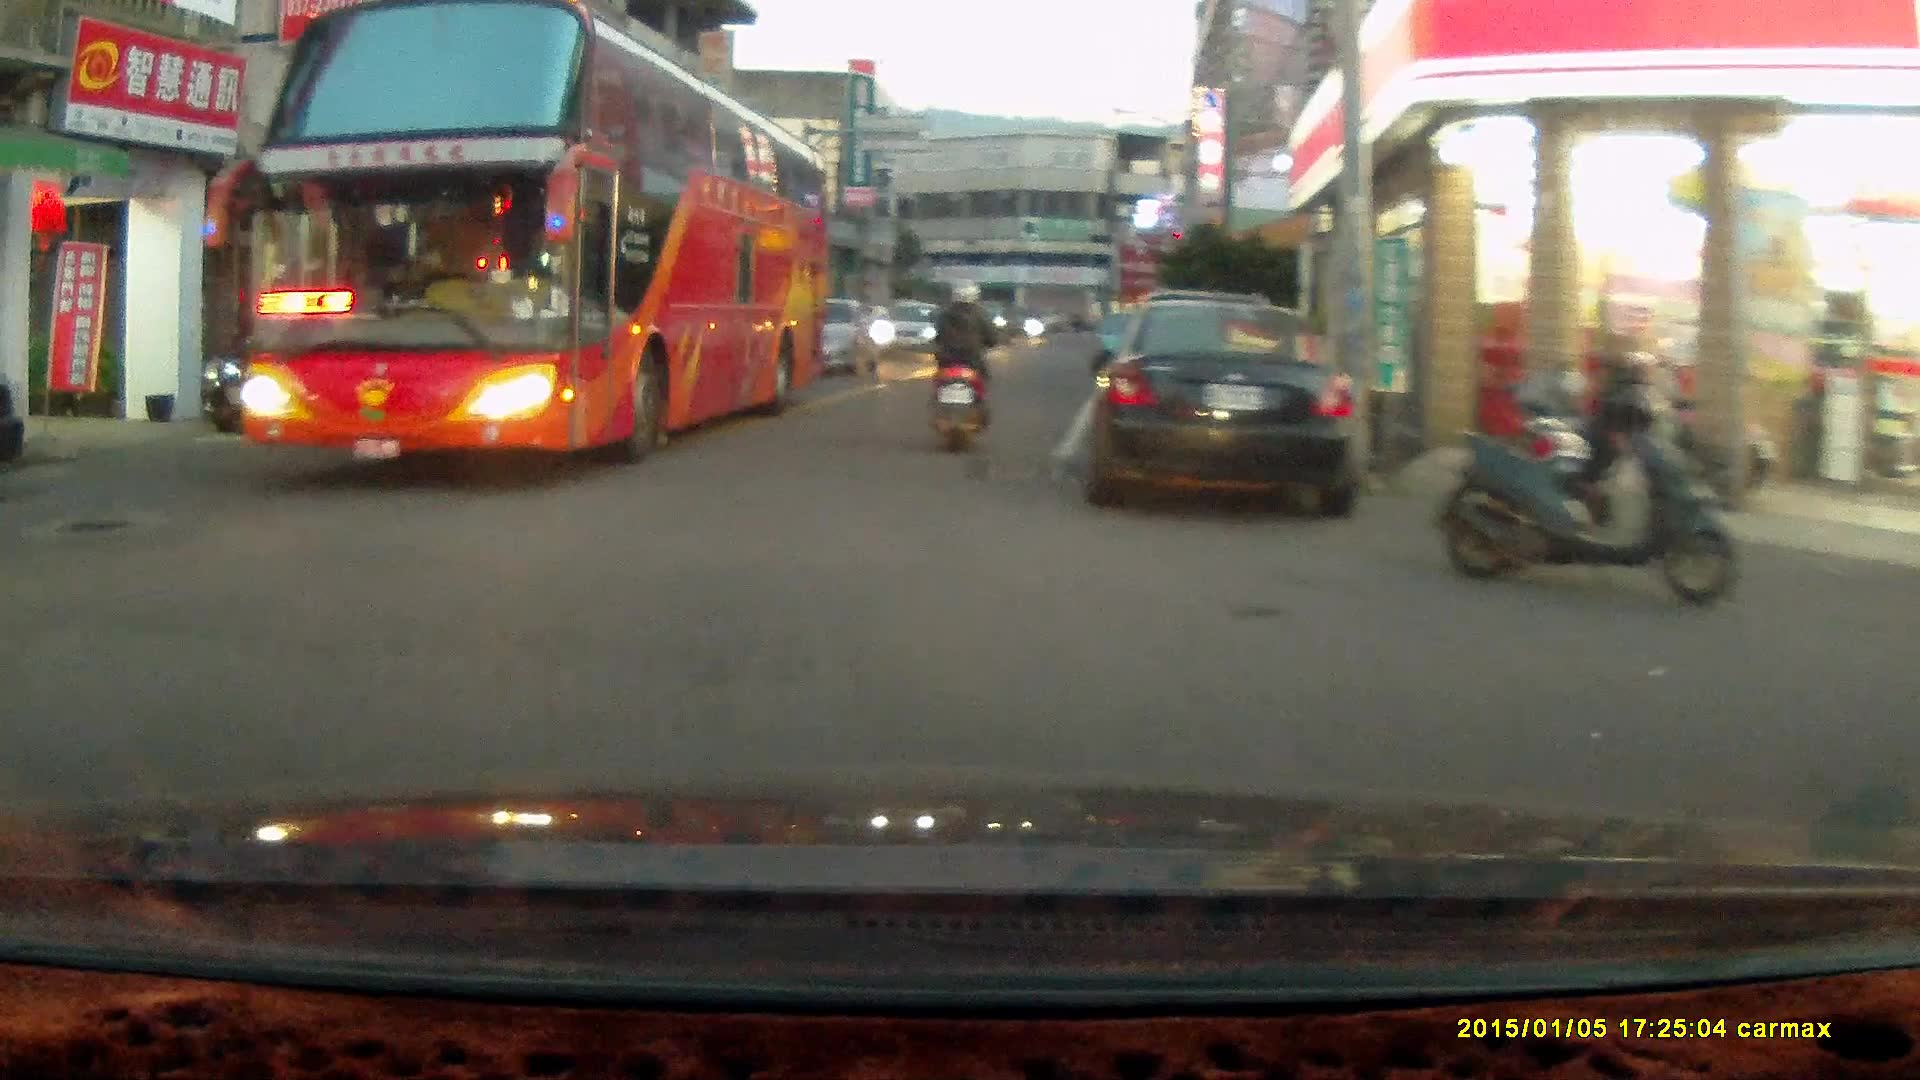rider: (918, 274, 995, 454)
vehicle: (231, 4, 835, 467), (1067, 291, 1362, 515), (809, 297, 878, 379)
